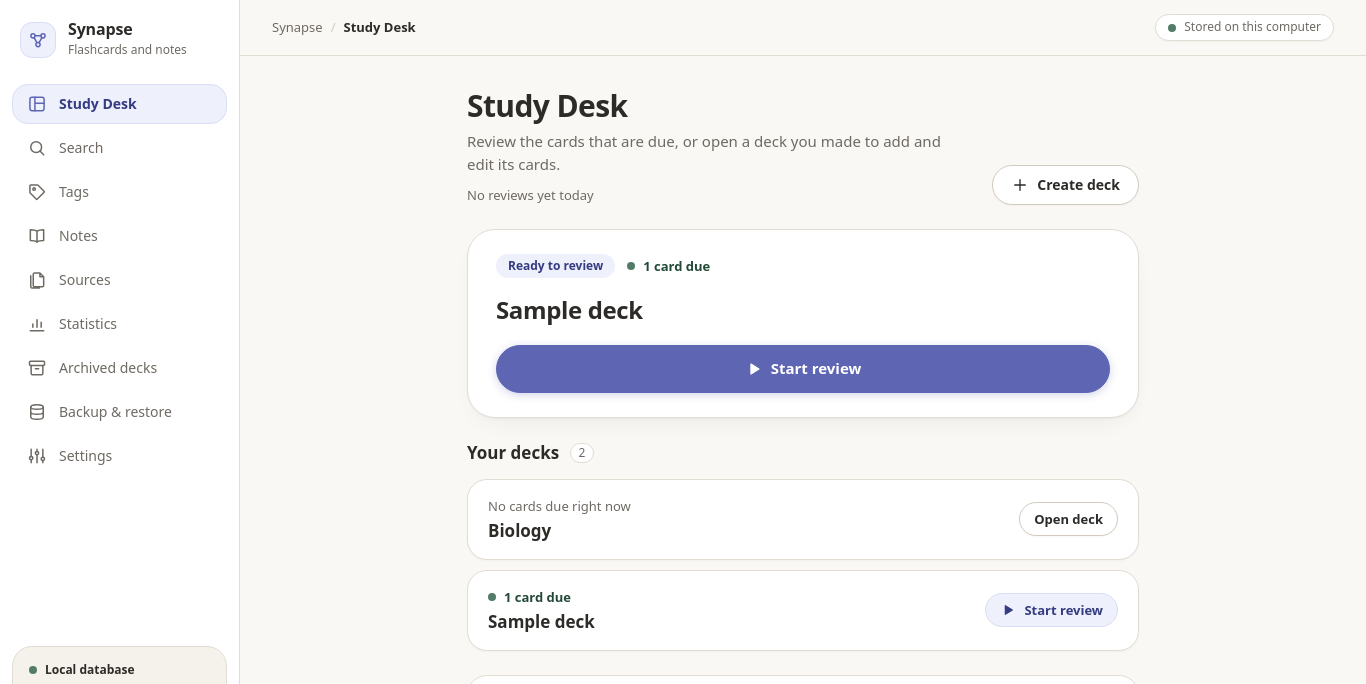
Test: importing cards from a file › shows every row, then adds the ready ones and leaves duplicates out
Expected: the button "Create deck" is shown, [992,165,1139,205]
Click the button "Backup & restore".
click(120, 412)  # box [12,392,227,432]
(page scrolled)
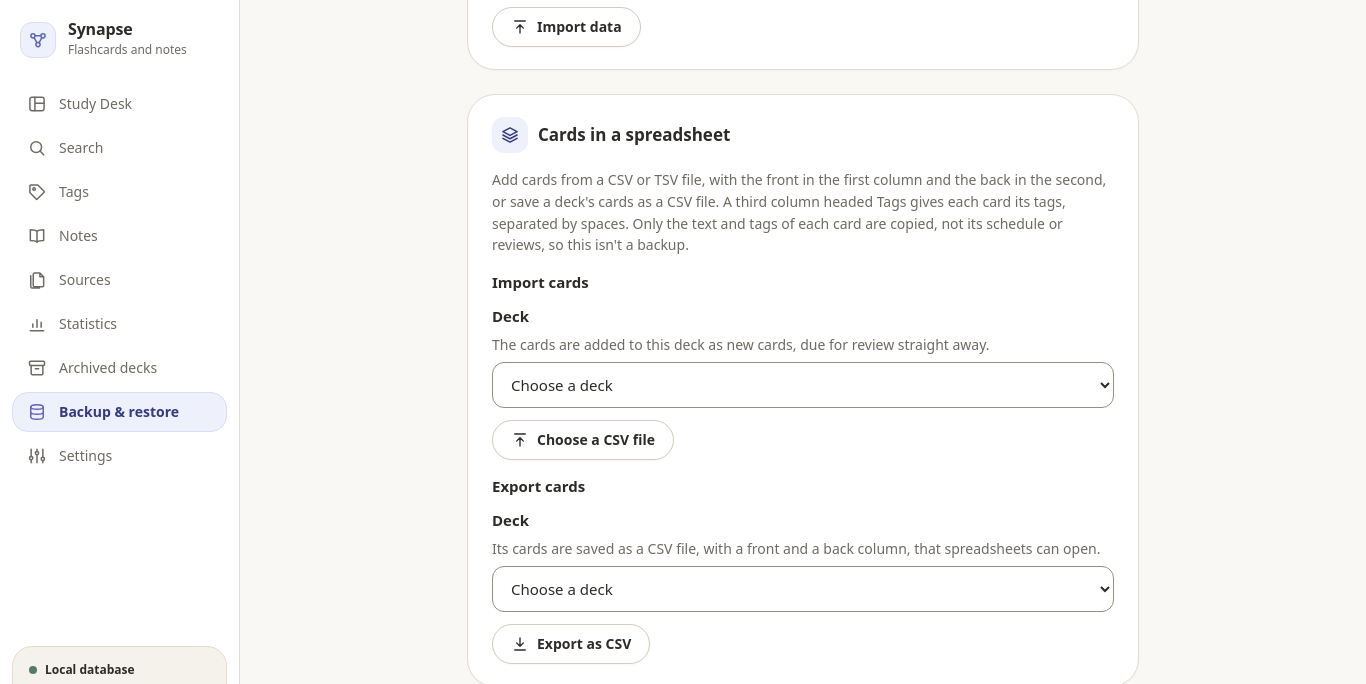
Now the heading "Cards in a spreadsheet" is shown, box [538,124,730,147]
Select "Biology" in the dropdown labelled "Deck" below "Import cards" at x=803, y=385, box [492,362,1114,408]
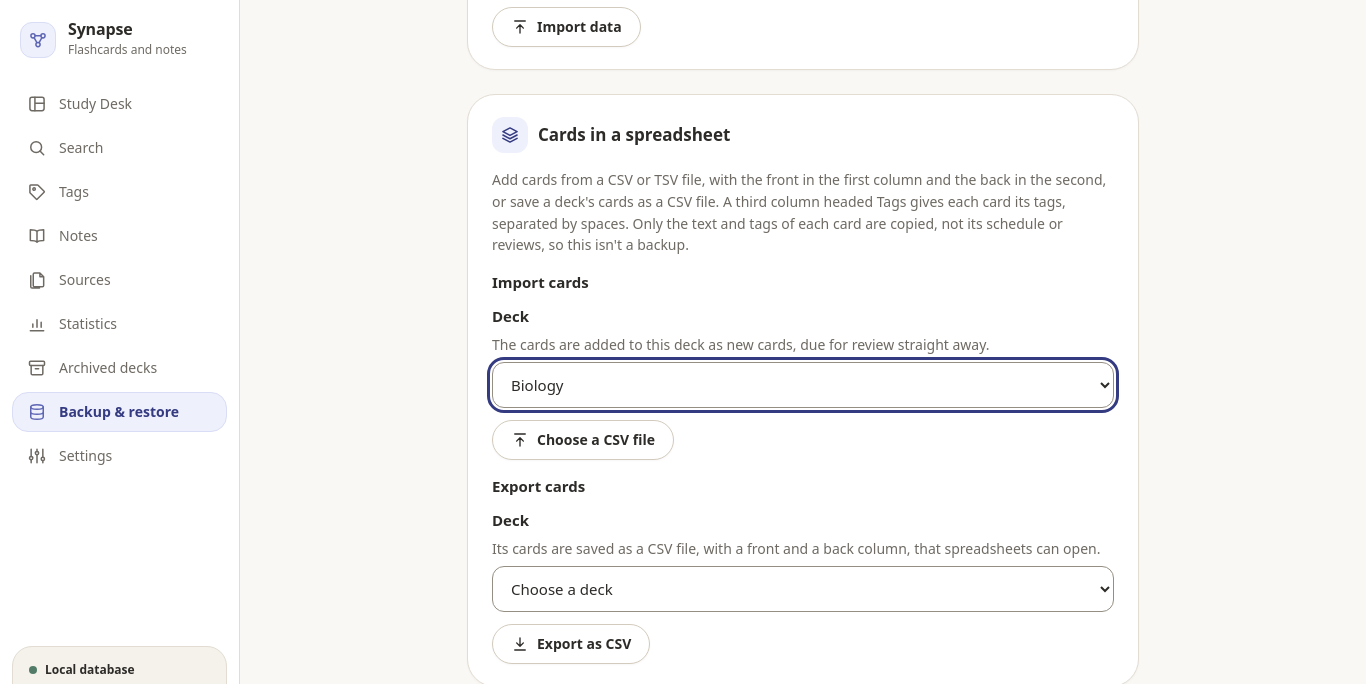
Click the button "Choose a CSV file".
click(583, 440)  # box [492,420,674,460]
(page scrolled)
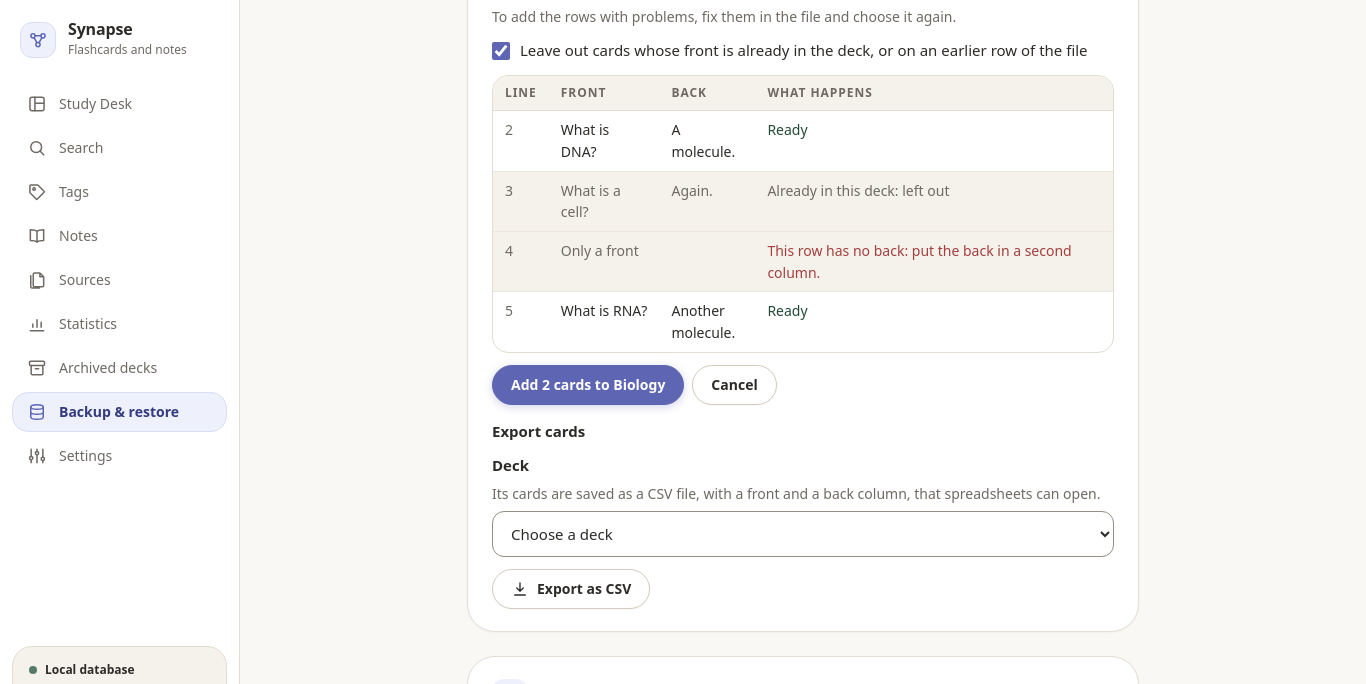
Now the checkbox labelled "Leave out cards whose front is already" is checked, box [492,42,510,60]
Click the button "Add 2 cards to Biology".
click(588, 385)  # box [492,365,684,405]
(page scrolled)
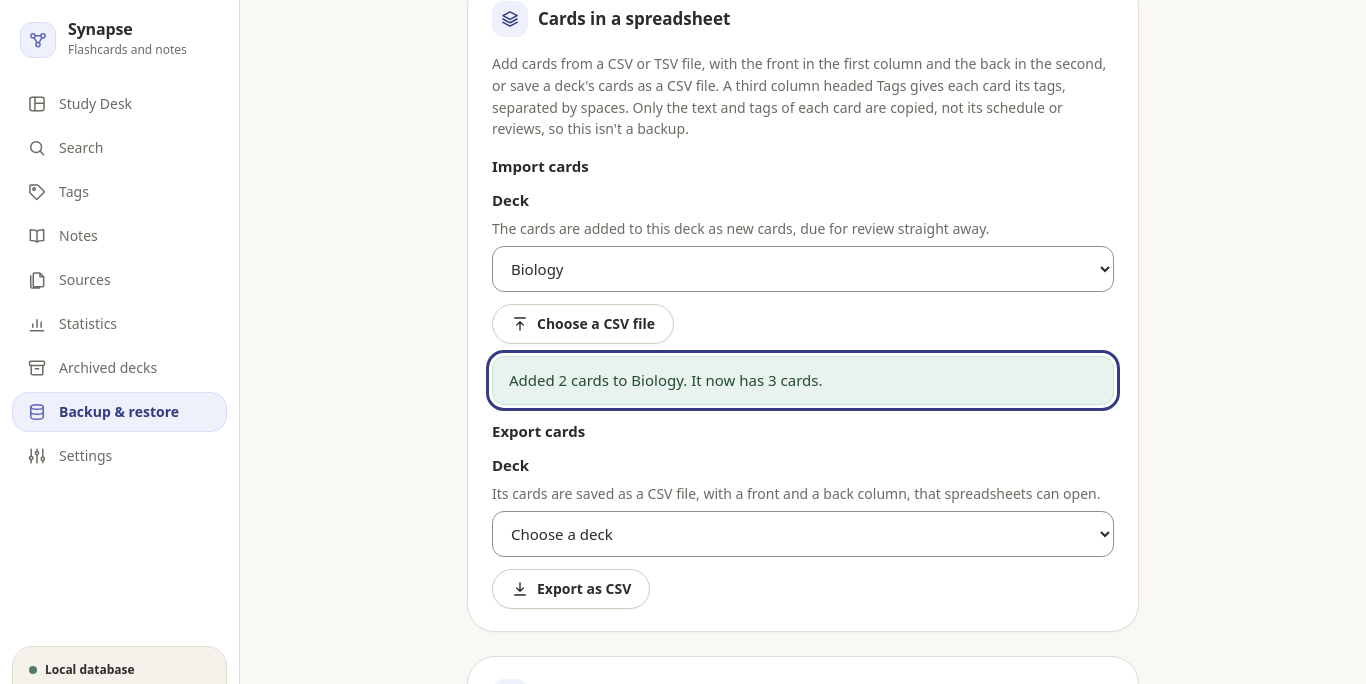
Now the table is gone
